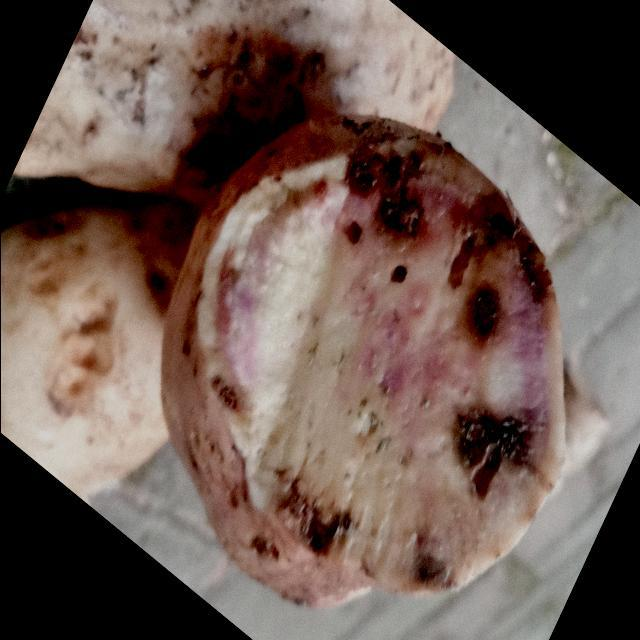Sick Sweet Potato_Tuber Rot: (198, 120, 562, 593)
